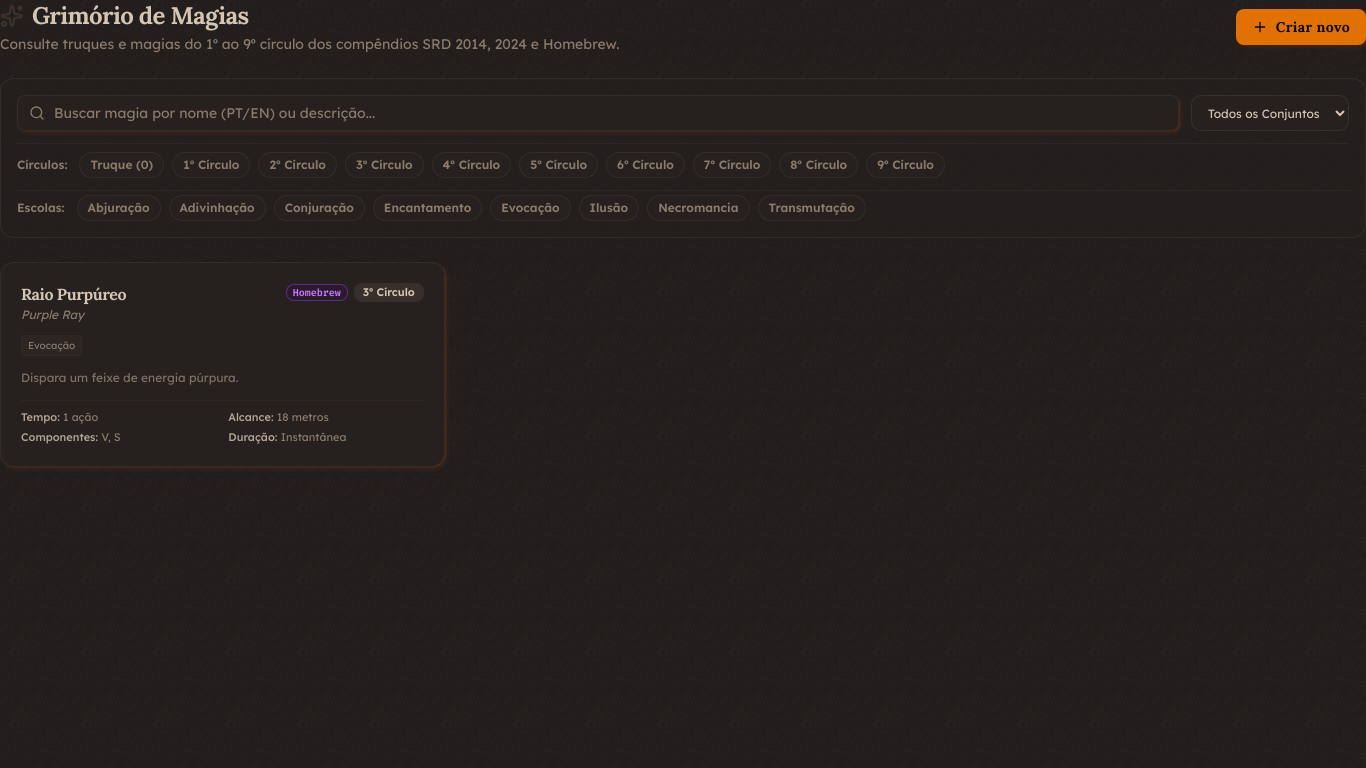
Scenario: Homebrew UI & Role Gating Integration Tests › TP-04: submits a Feat with configurable charges (ABILITY_MODIFIER) and independent rest recovery rules
The width and height of the screenshot is (1366, 768).
Later steps or results of the test are not shown.
Click the button with test id "create-homebrew-button" at {"x": 1301, "y": 27}, box [1236, 9, 1365, 45]
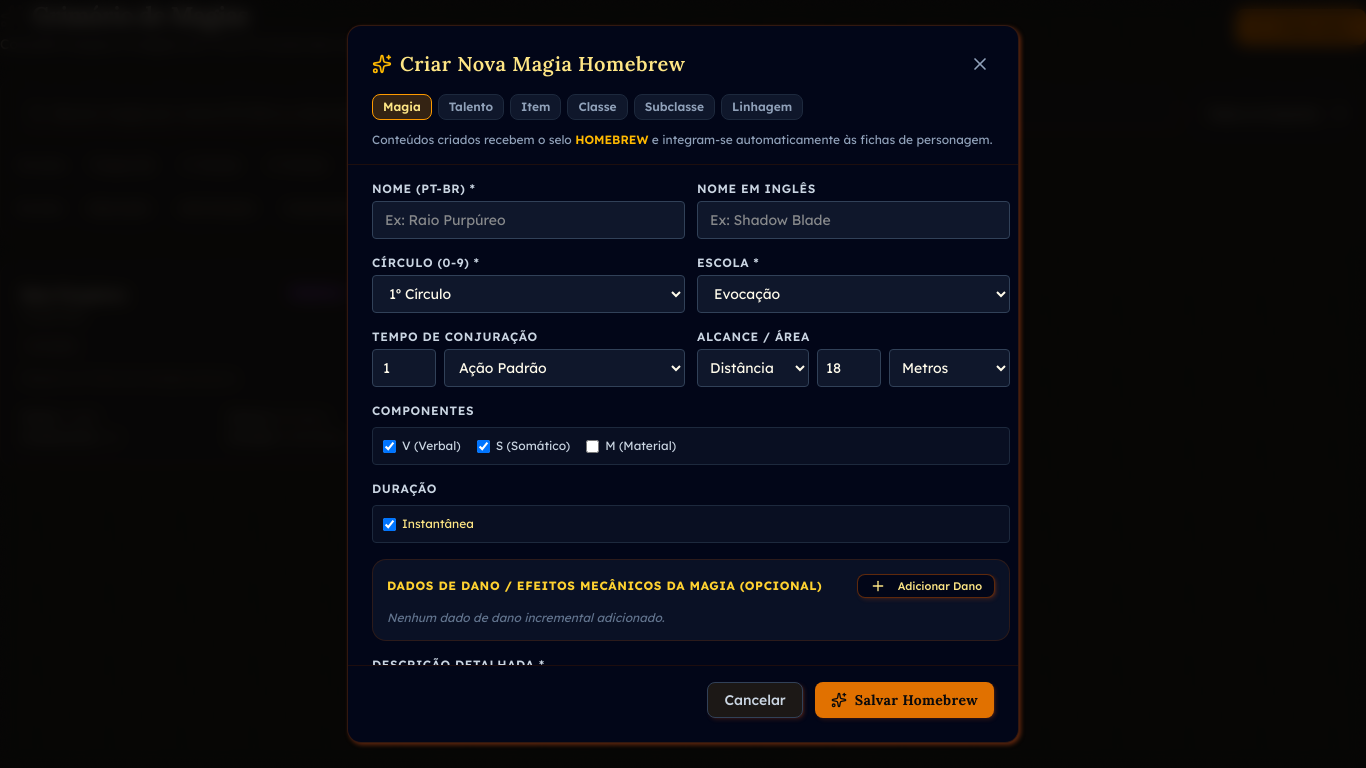
Click the button with test id "homebrew-tab-feats" at {"x": 471, "y": 107}, box [438, 94, 504, 120]
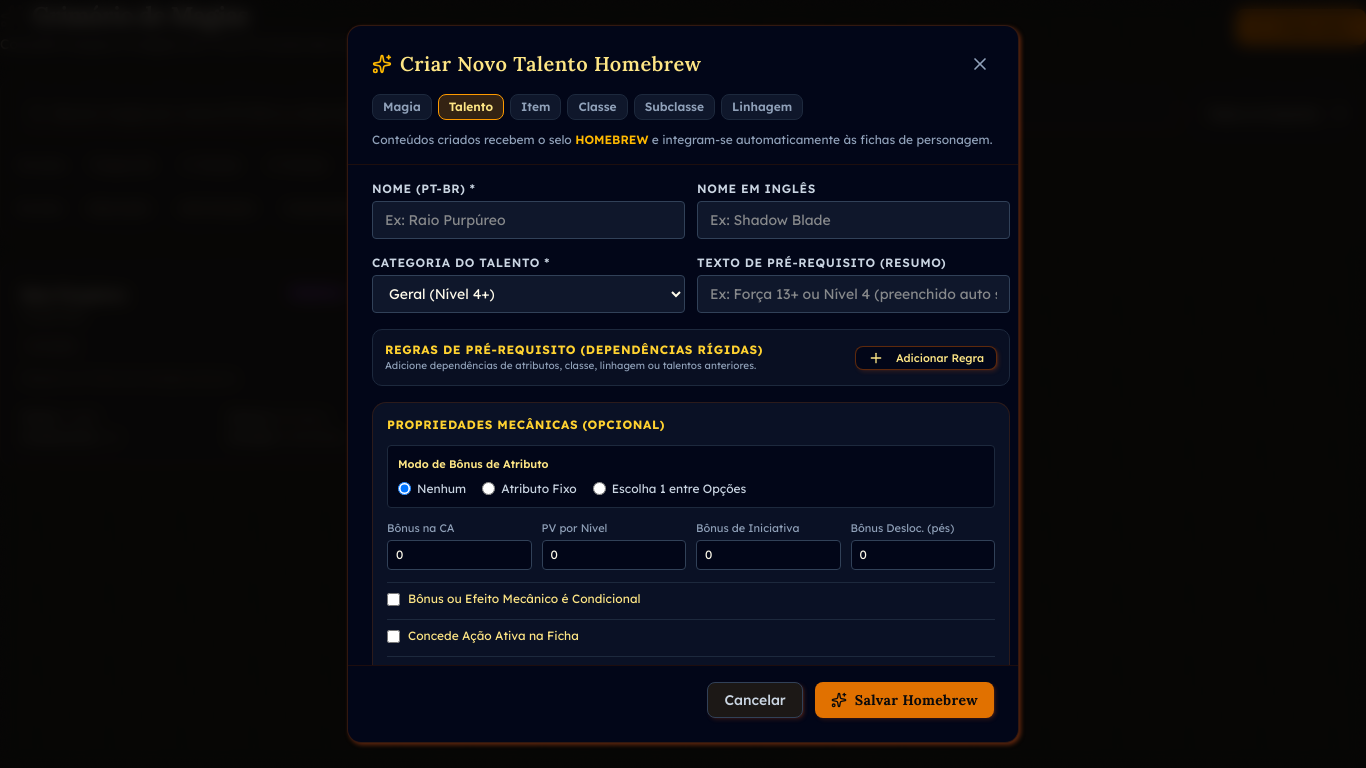
Type "Fúria Divina" into the field with placeholder "Ex: Raio Purpúreo" at {"x": 528, "y": 220}, box [372, 201, 685, 239]
(page scrolled)
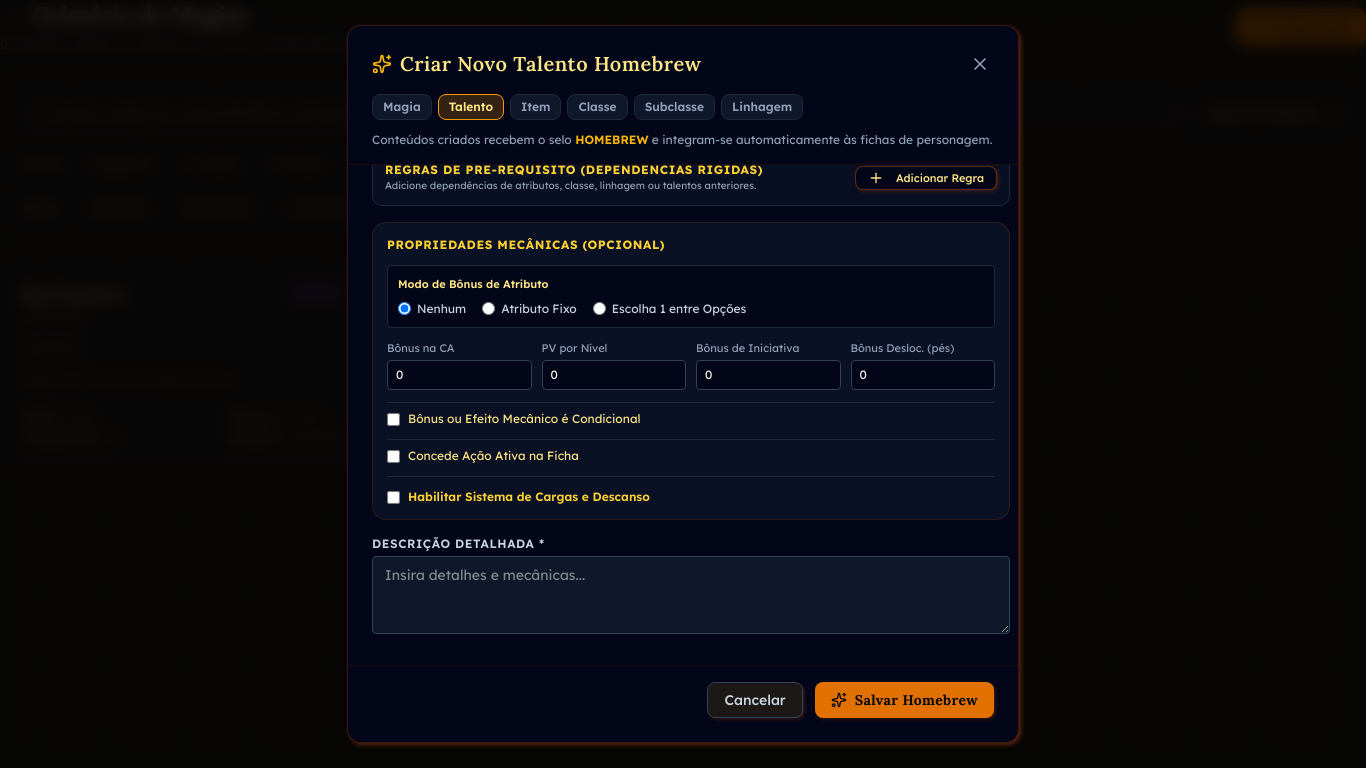
Type "Cargas baseadas em Sabedoria." into the text box with placeholder "Insira detalhes e mecânicas..." at {"x": 691, "y": 595}, box [372, 556, 1010, 634]
# Toggle charge system
Click the checkbox with test id "feat-has-charges-toggle" at {"x": 394, "y": 497}, box [387, 491, 400, 504]
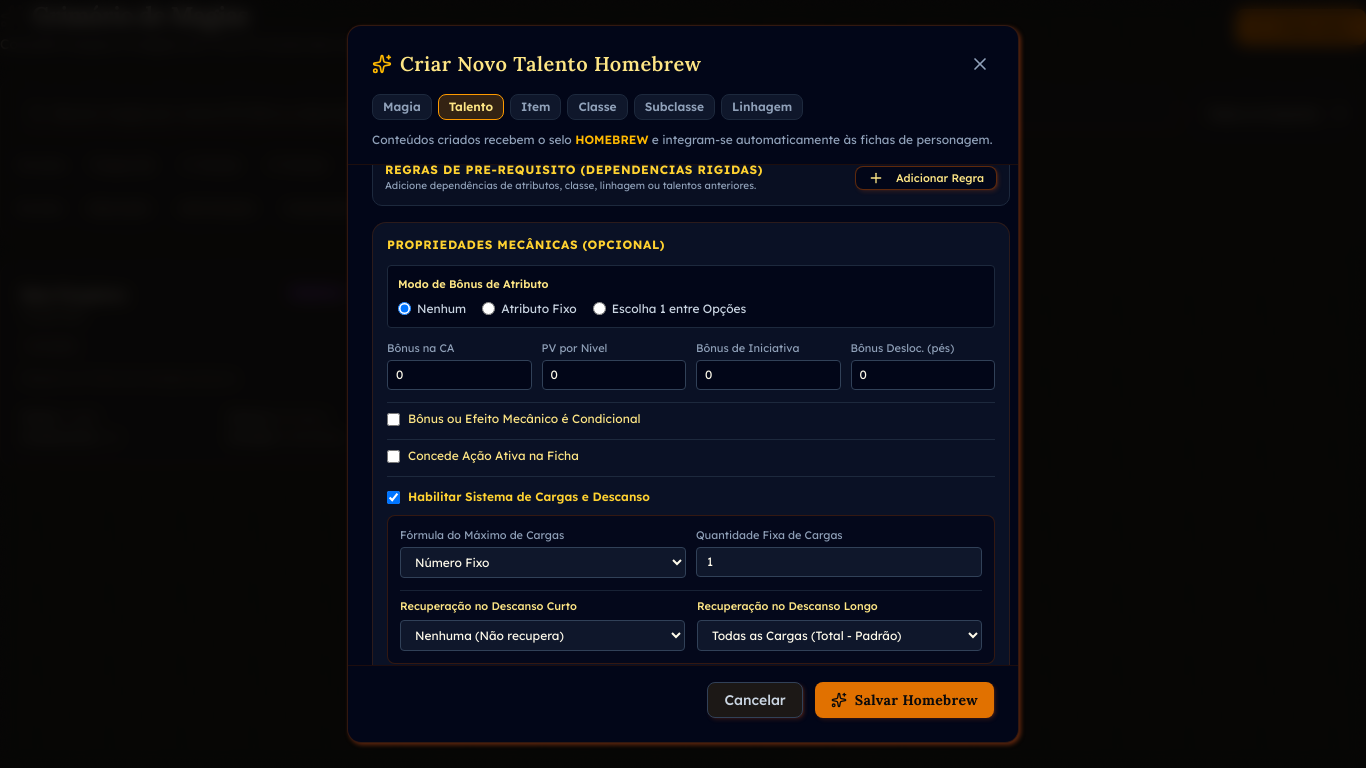
Select "Modificador de Atributo (mín. 1)" in the dropdown with test id "feat-max-charges-type-select" at {"x": 543, "y": 563}, box [400, 547, 686, 578]
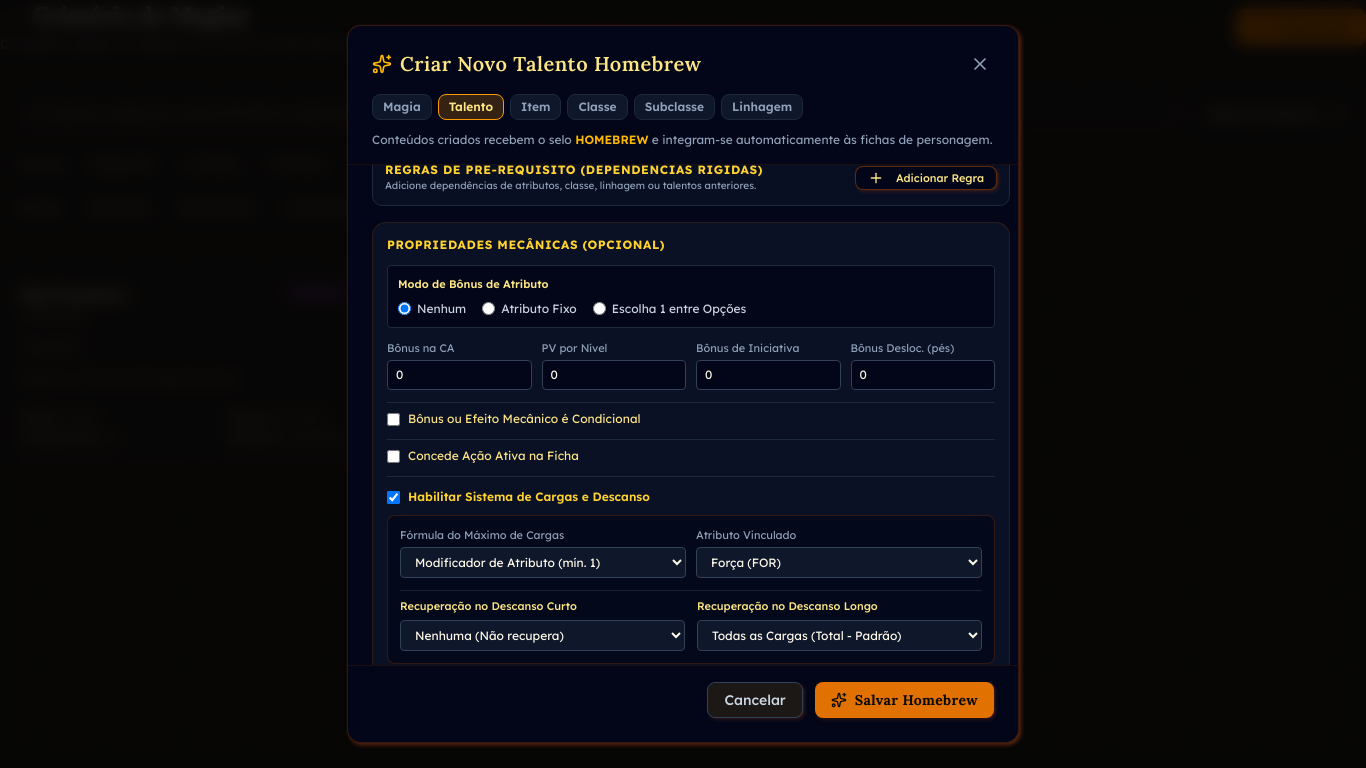
Select "Sabedoria (SAB)" in the dropdown with test id "feat-charge-ability-select" at {"x": 839, "y": 563}, box [696, 547, 982, 578]
Select "Modificador do Atributo" in the dropdown with test id "feat-short-rest-recovery-select" at {"x": 542, "y": 635}, box [400, 620, 685, 651]
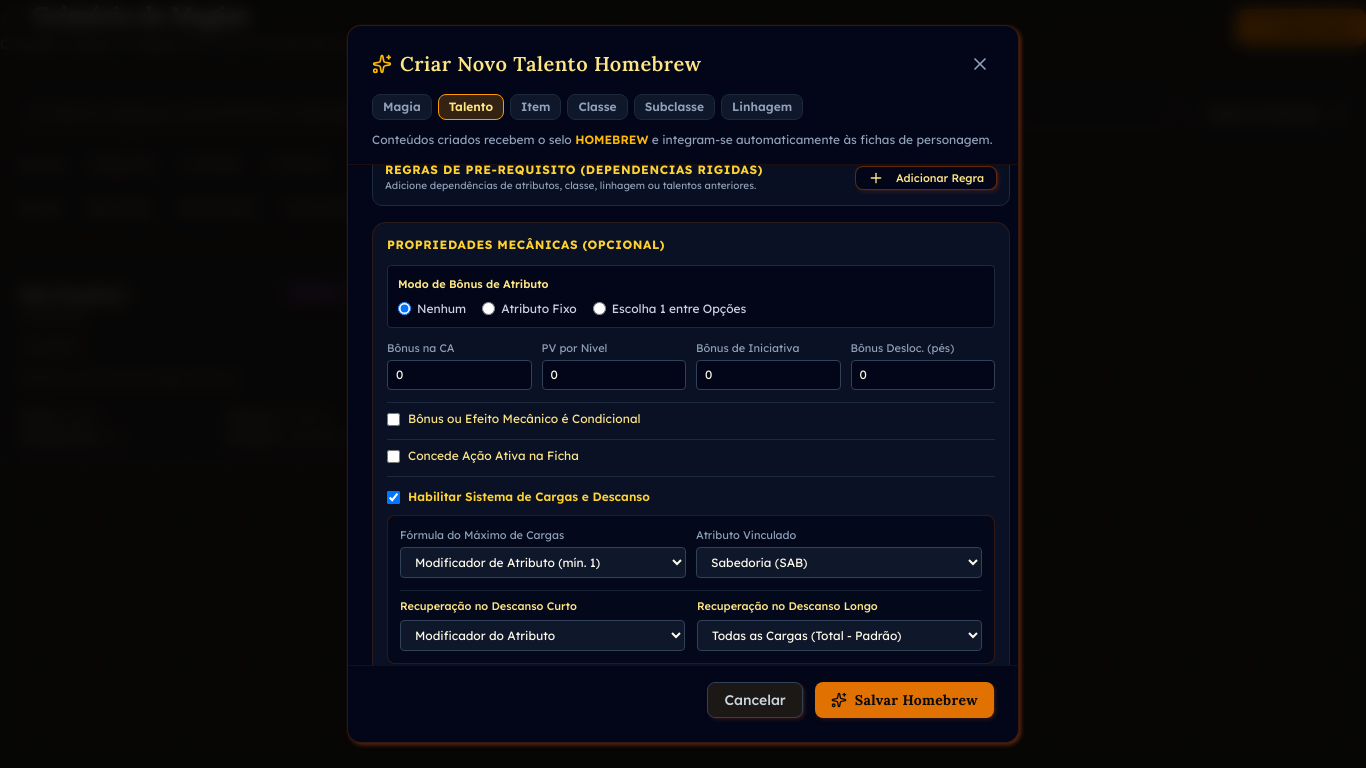
Result: the dropdown with test id "feat-long-rest-recovery-select" shows "Todas as Cargas (Total - Padrão)" at [697, 620, 982, 651]
